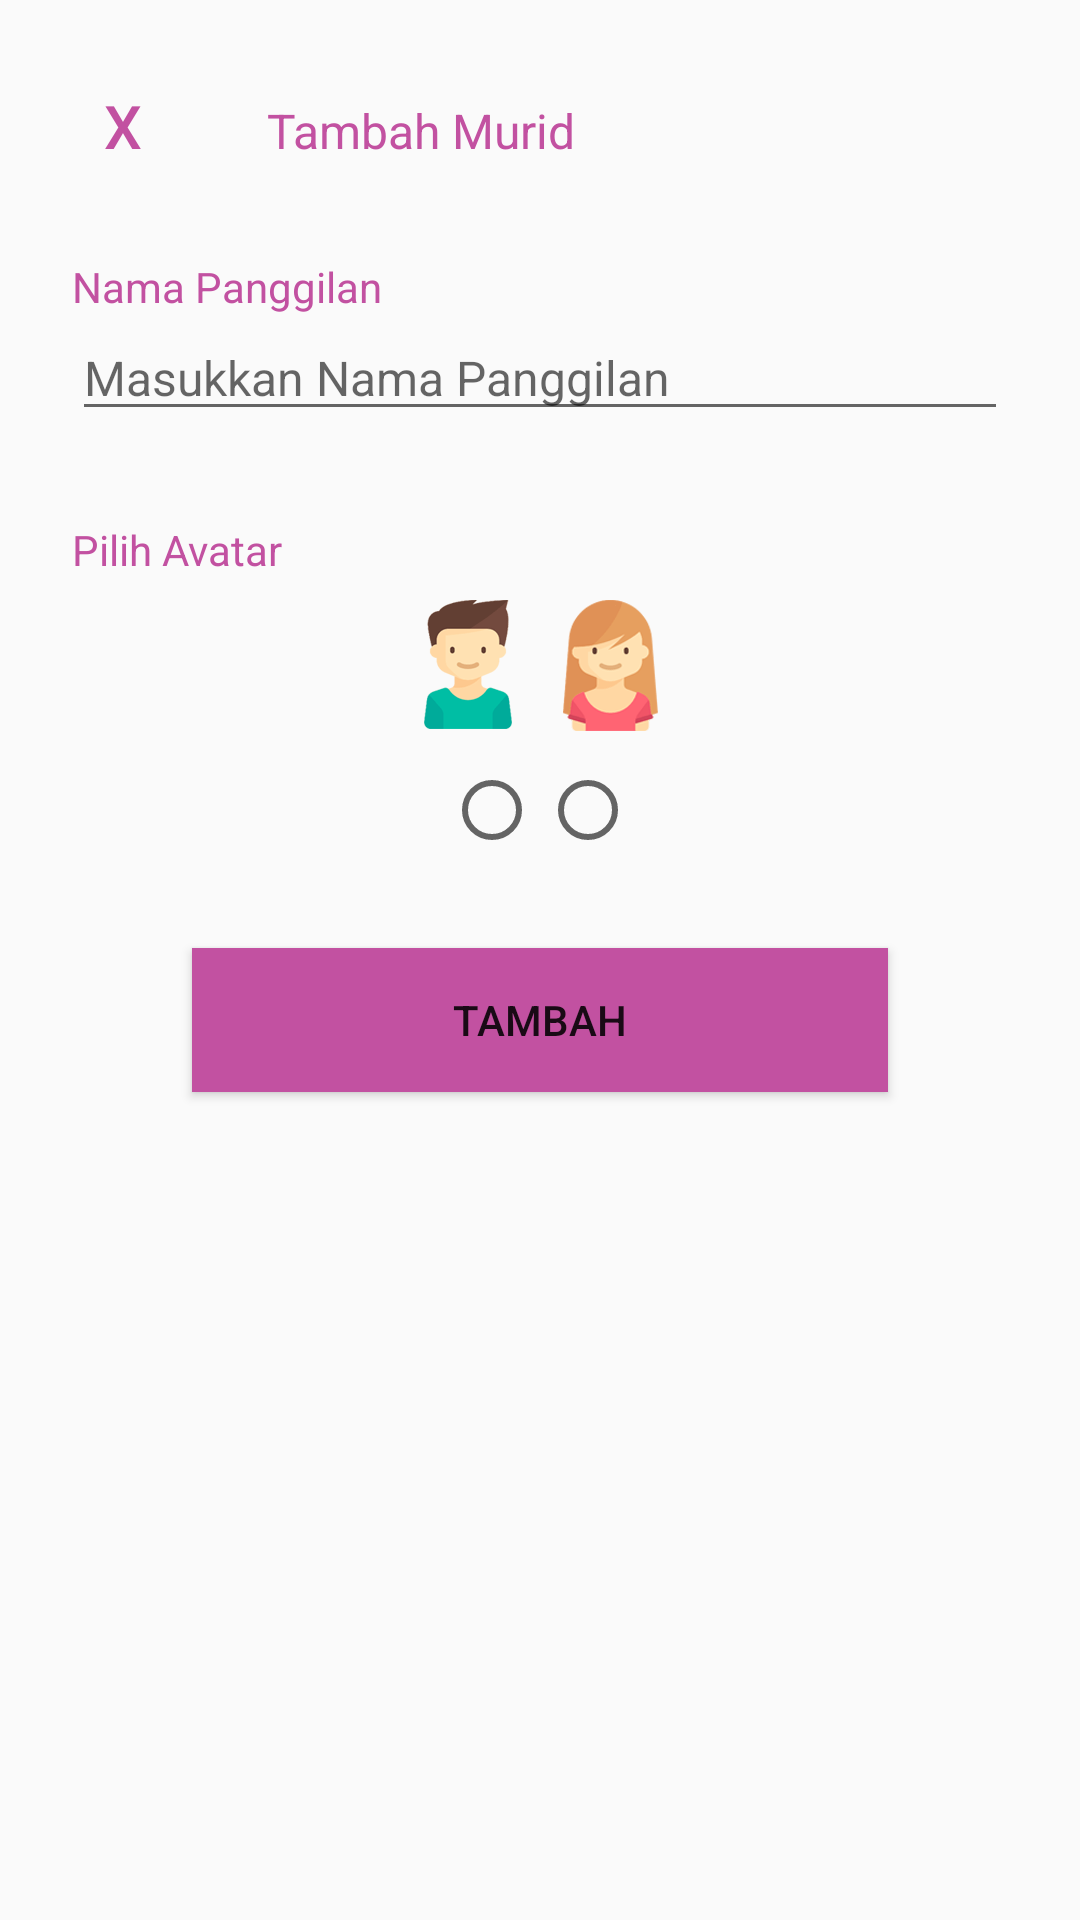

Where icons sit on this 1080 × 1920 app screen, as (x1, y1, x2, y2):
anak laki: (424, 600, 512, 729)
anak perempuan: (563, 600, 658, 731)
